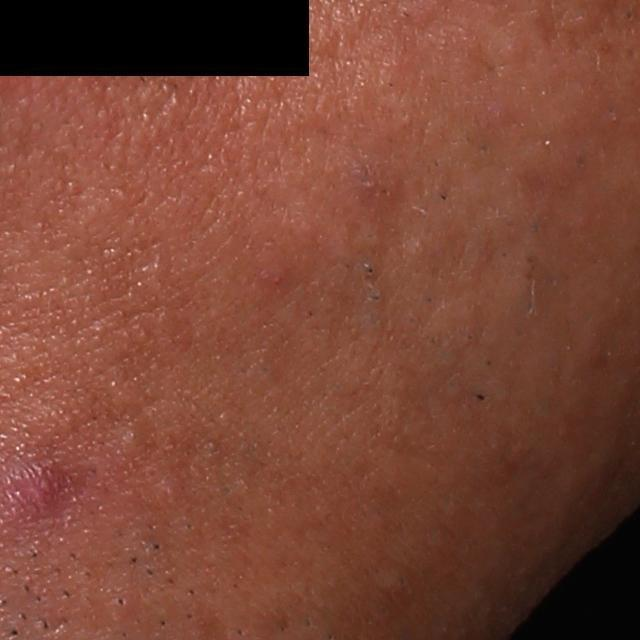papule: (8, 470, 80, 519)
